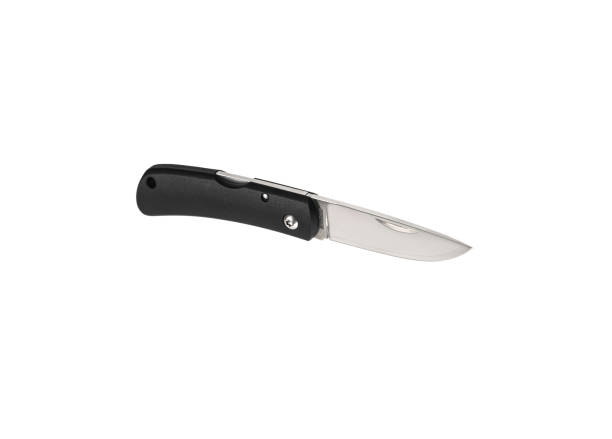knife: (133, 162, 474, 265)
